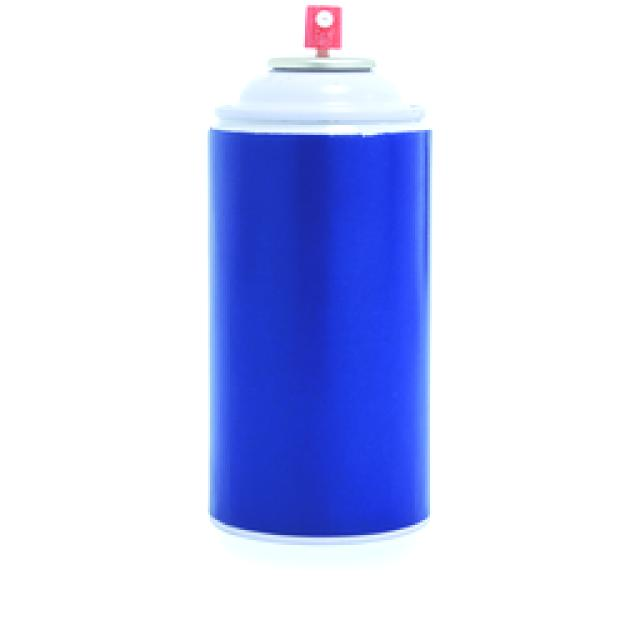B3: (210, 6, 436, 551)
